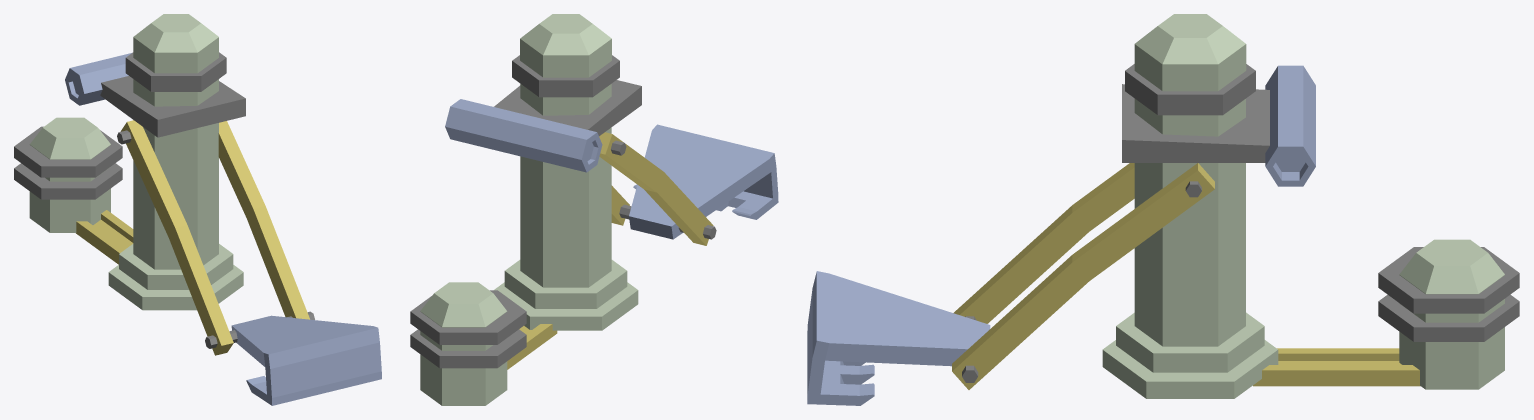
Rendered from extravactor v2 01.fbx.
3 renders of one model, left to right at view 1: azimuth 30°, elevation 25°; view 2: azimuth 150°, elevation 25°; view 3: azimuth 270°, elevation 25°, orthographic. The views are drawn at different scales.
Visible parts, largest first — view 1: Cylinder.002, Cube.004, Cube, Cylinder.004, Cube.001, Cube.002, Cylinder.006, Cylinder.005, Cylinder.003, Cube.003; view 2: Cylinder.002, Cube.004, Cylinder.004, Cylinder.003, Cube, Cube.002, Cylinder.006, Cylinder.005, Cube.003, Cube.001; view 3: Cylinder.002, Cube.004, Cube.001, Cylinder.004, Cube, Cube.002, Cube.003, Cylinder.003, Cylinder.006, Cylinder.005.
Part boxes in pixels (left/top/right/bottom): Cylinder.002: left=108, top=14, right=243, bottom=310; Cube.004: left=231, top=315, right=381, bottom=405; Cube: left=120, top=120, right=233, bottom=355; Cylinder.004: left=29, top=117, right=110, bottom=232; Cube.001: left=218, top=121, right=309, bottom=319; Cube.002: left=100, top=76, right=245, bottom=137; Cylinder.006: left=14, top=126, right=122, bottom=177; Cylinder.005: left=14, top=163, right=122, bottom=199; Cylinder.003: left=65, top=53, right=131, bottom=105; Cube.003: left=76, top=210, right=133, bottom=264; Cylinder.002: left=494, top=14, right=638, bottom=330; Cube.004: left=629, top=124, right=778, bottom=239; Cylinder.004: left=420, top=282, right=507, bottom=405; Cylinder.003: left=445, top=99, right=602, bottom=172; Cube: left=599, top=132, right=713, bottom=245; Cube.002: left=494, top=80, right=641, bottom=136; Cylinder.006: left=410, top=290, right=526, bottom=344; Cylinder.005: left=410, top=329, right=526, bottom=368; Cube.003: left=507, top=324, right=557, bottom=369; Cube.001: left=611, top=185, right=629, bottom=225; Cylinder.002: left=1102, top=14, right=1278, bottom=398; Cube.004: left=807, top=271, right=990, bottom=405; Cube.001: left=952, top=163, right=1214, bottom=389; Cylinder.004: left=1399, top=239, right=1504, bottom=389; Cube: left=953, top=163, right=1134, bottom=323; Cube.002: left=1122, top=84, right=1269, bottom=162; Cube.003: left=1253, top=348, right=1420, bottom=386; Cylinder.003: left=1265, top=65, right=1315, bottom=186; Cylinder.006: left=1378, top=247, right=1519, bottom=313; Cylinder.005: left=1378, top=294, right=1519, bottom=341.
Size of the model in its own units: 219 by 440 by 815.
